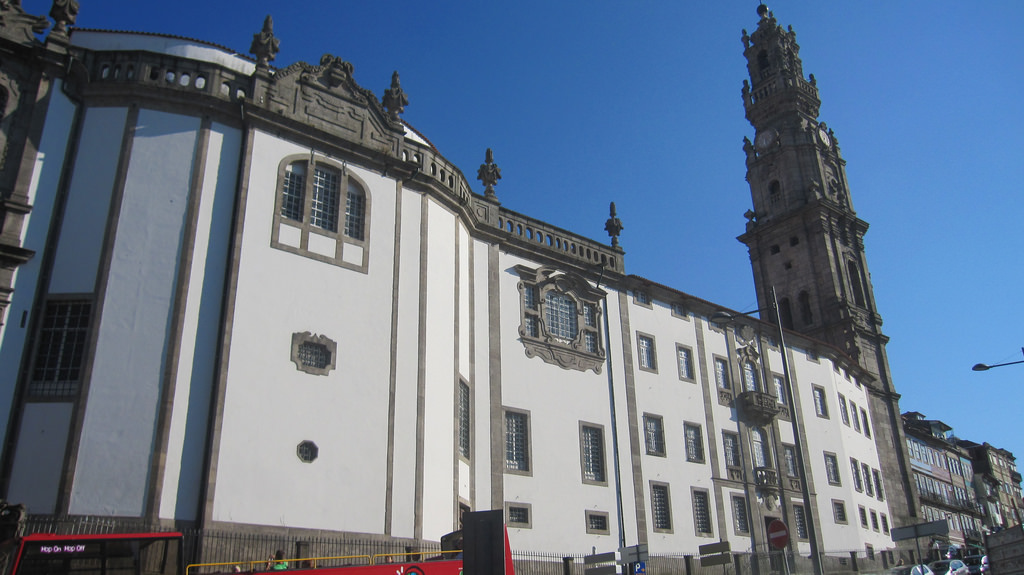clerigos: (727, 0, 903, 401)
